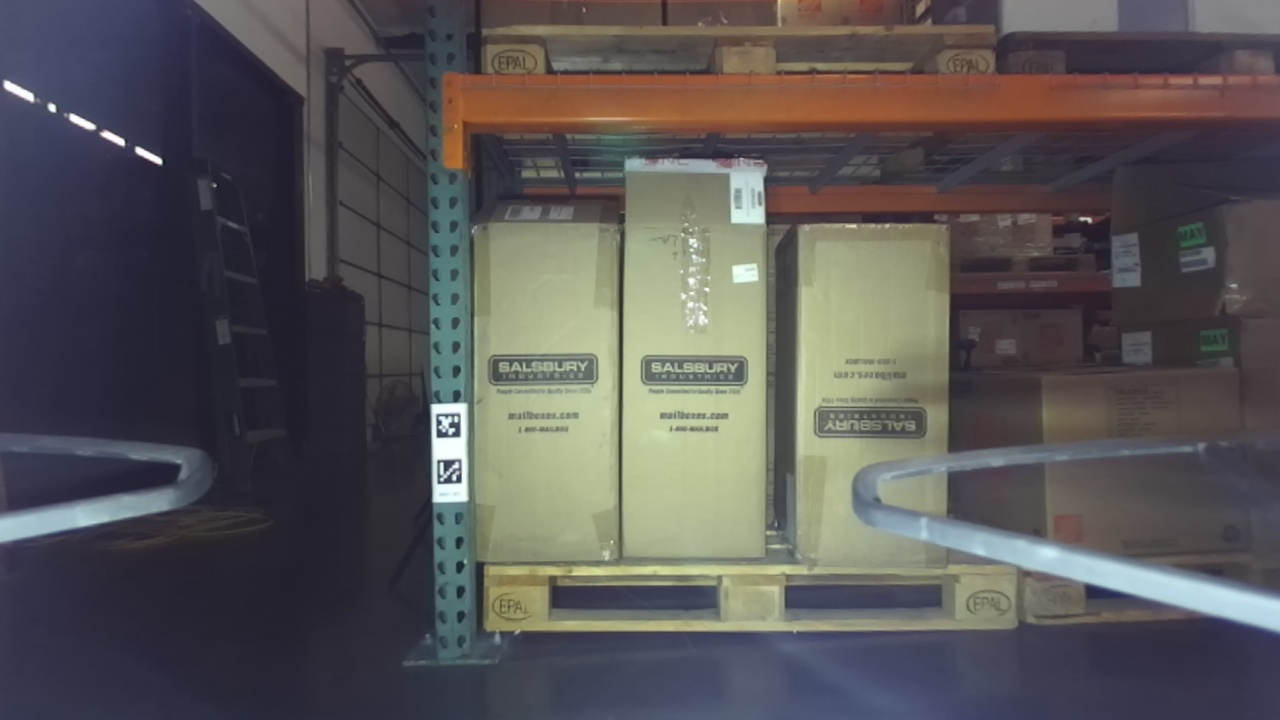box: (601, 144, 792, 572), (765, 206, 965, 575), (458, 198, 635, 578), (955, 353, 1277, 555)
